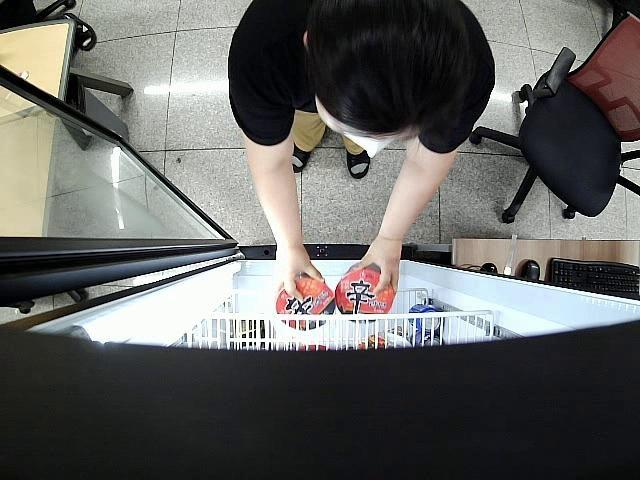01_ShinRamen_L: (334, 266, 394, 324), (275, 274, 334, 331)
